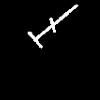double_crochet: (28, 5, 77, 47)
